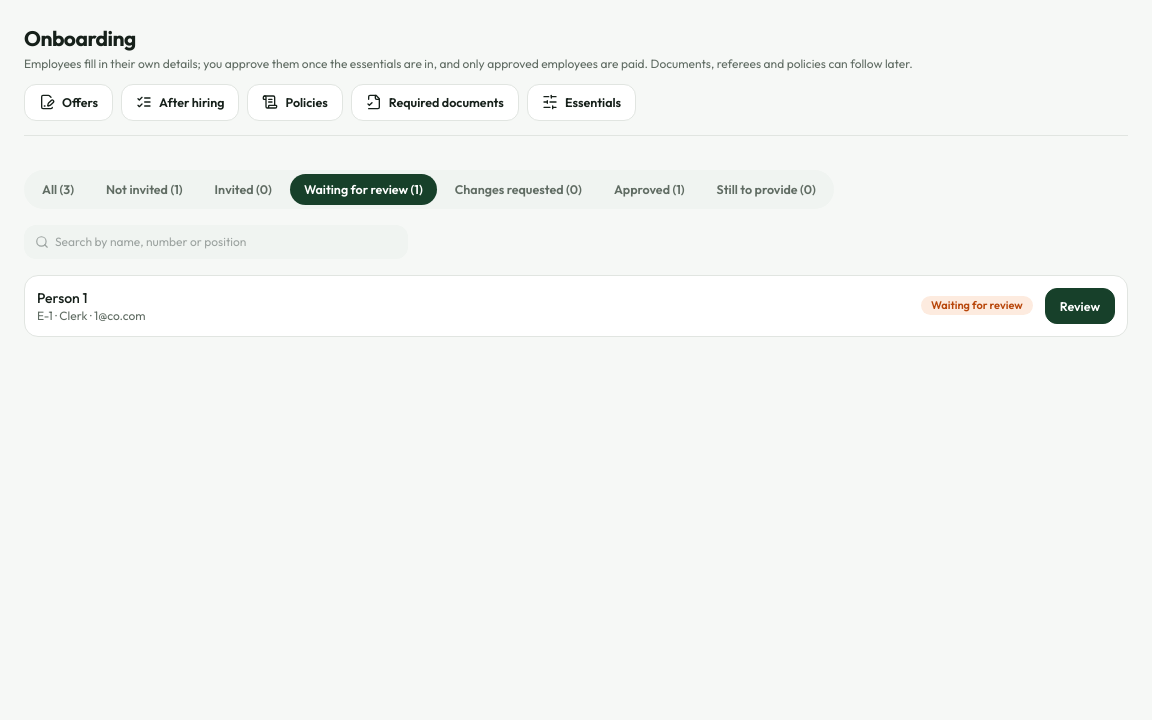
Test case: OnboardingReview › approves a submitted record
The width and height of the screenshot is (1152, 720).
Click the button "Review": (1080,306) [1045,288,1115,324]
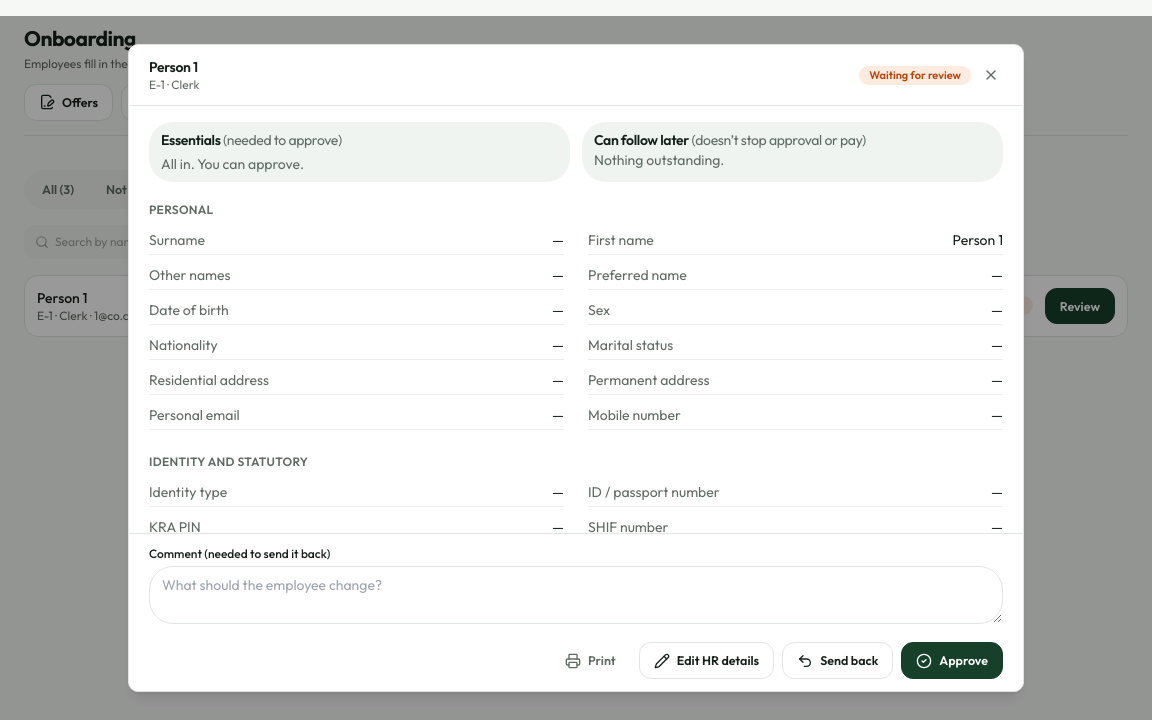
Check: the button "Approve" is enabled
Click the button "Approve": (952,661) [901,642,1003,679]
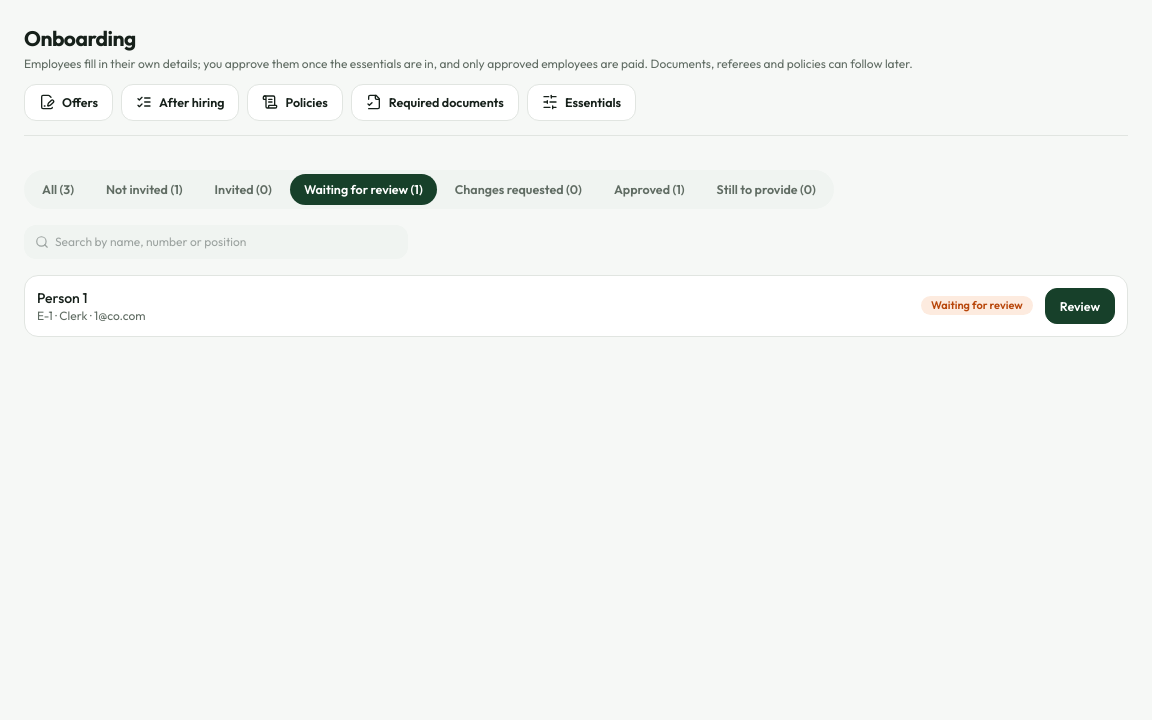
Check: the dialog is gone
